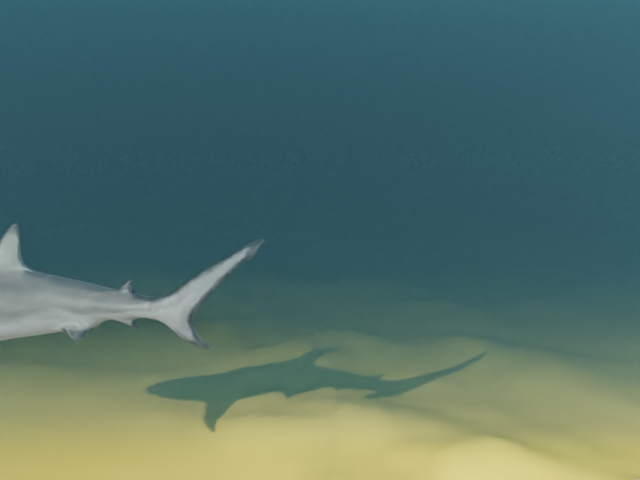Carribean Shark.001: (0, 223, 264, 381)
